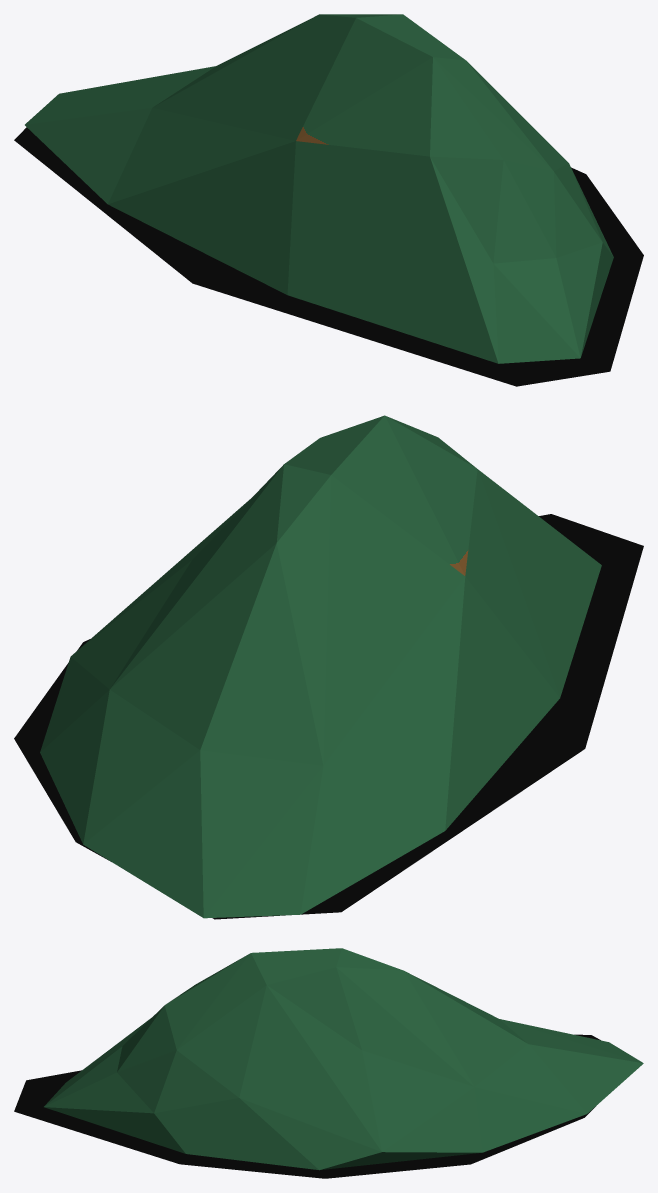
Rendered from Wzgorze2.fbx.
3 renders of one model, top to bottom at view 1: azimuth 30°, elevation 25°; view 2: azimuth 150°, elevation 25°; view 3: azimuth 270°, elevation 25°, orthographic. The views are drawn at different scales.
Visible parts, largest first — view 1: Wgorze2; view 2: Wgorze2; view 3: Wgorze2.
Part boxes in pixels (x1,y1,x2,y2): Wgorze2: (14,14,643,386); Wgorze2: (14,415,643,919); Wgorze2: (14,948,643,1178).
Bounding box in the file's own units: 86197 × 41080 × 154466.
